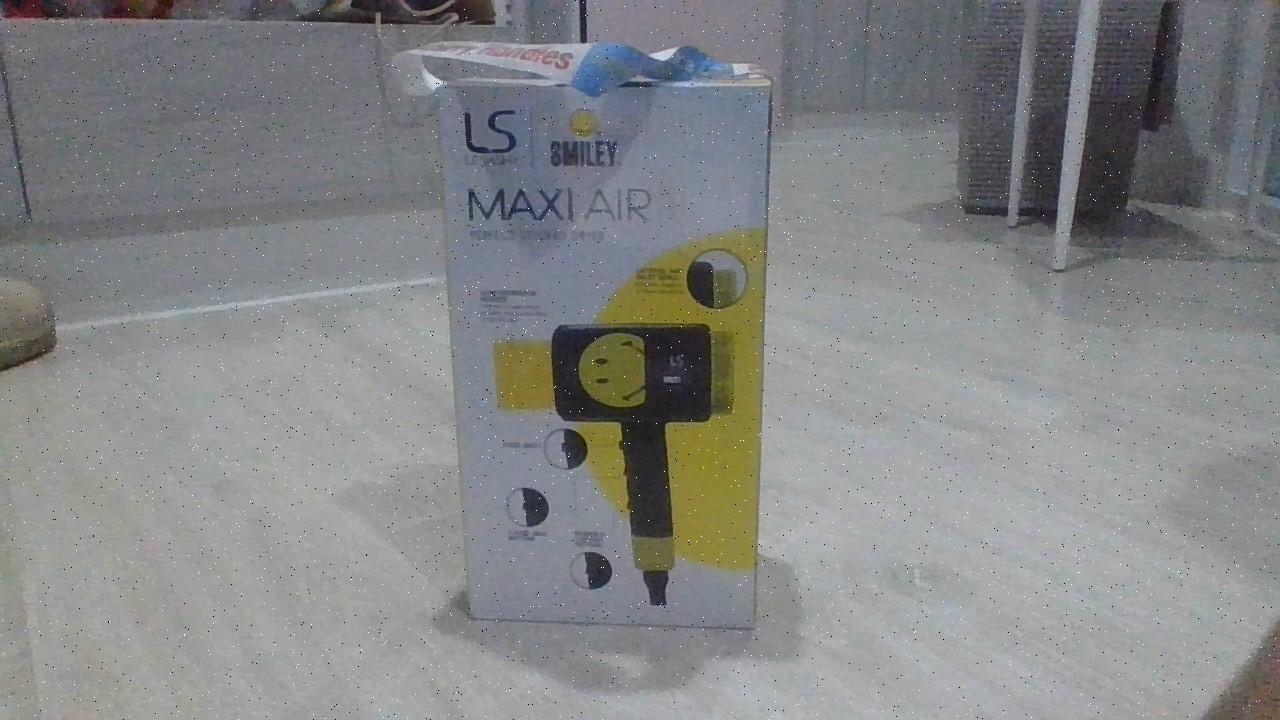Dryer: (406, 41, 778, 634)
